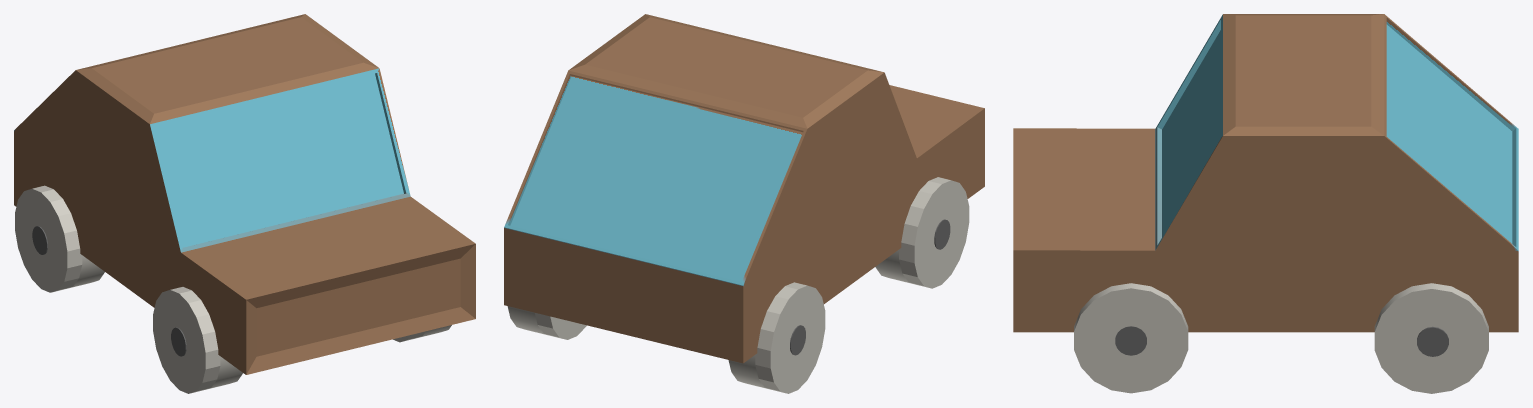
The model's file is CarBlocky.obj.
The picture shows the model from 3 angles, left to right: view 1: azimuth 30°, elevation 25°; view 2: azimuth 150°, elevation 25°; view 3: azimuth 270°, elevation 25°; orthographic projection. The views are drawn at different scales.
Parts seen in each view (by area): view 1: CarBody; view 2: CarBody; view 3: CarBody.
Boxes of the visible parts, x1,y1,x2,y2 form: CarBody: (14, 14, 475, 393); CarBody: (504, 14, 984, 393); CarBody: (1013, 14, 1518, 393).
Bounding box in the file's own units: 2.19 × 1.93 × 3.45.
